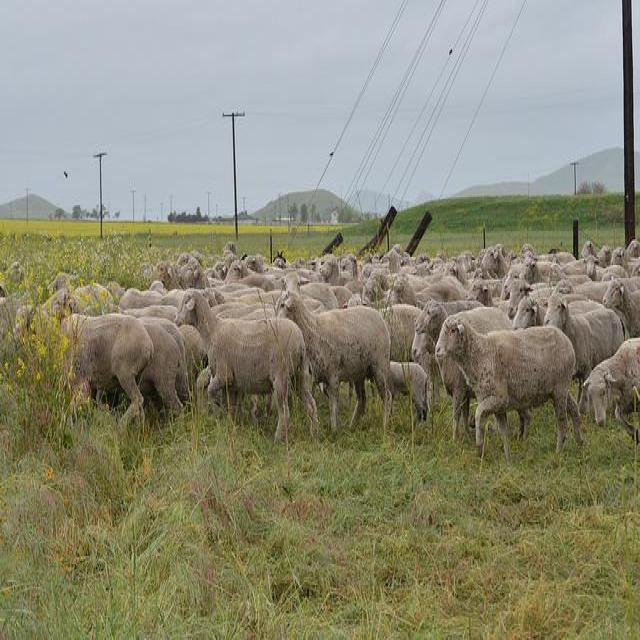Sheep: (1, 238, 639, 425), (434, 314, 589, 471), (175, 290, 318, 444), (269, 286, 395, 438), (415, 298, 514, 442), (67, 314, 155, 436), (541, 296, 628, 376), (583, 338, 639, 444), (343, 292, 424, 360), (141, 326, 184, 411), (604, 276, 639, 340)
